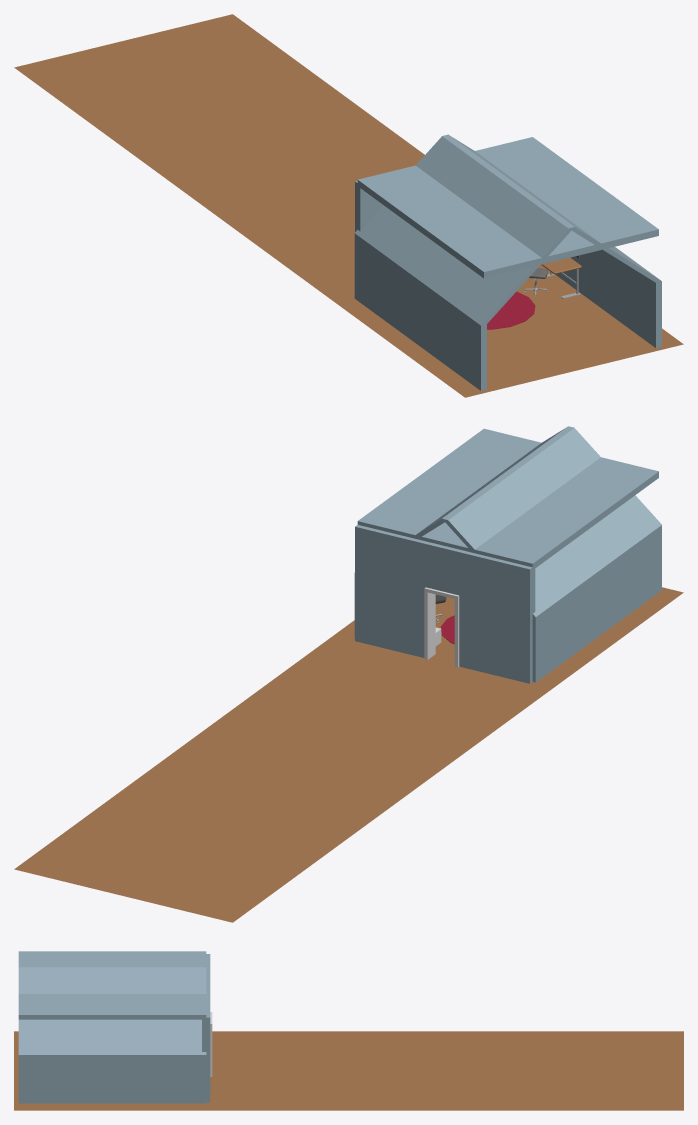
The model's file is room.gltf.
The picture shows the model from 3 angles, top to bottom: view 1: azimuth 30°, elevation 25°; view 2: azimuth 150°, elevation 25°; view 3: azimuth 270°, elevation 25°; orthographic projection. The views are drawn at different scales.
Parts seen in each view (by area): view 1: Room; view 2: Room; view 3: Room.
Part boxes in pixels (box(x1,y1,x2,y2)): Room: box(14, 14, 683, 397); Room: box(14, 426, 683, 922); Room: box(14, 951, 683, 1110).
Size of the model in its own units: 7 by 4.32 by 25.
